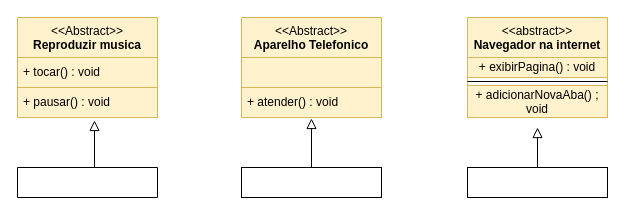
Some shapes in this 625 by 215 pixel diagram are drawn without their labels. Each missing label, with the centre of its shape:
"+ ligar() : void" goes at [311,72].
"atualizarPagina" goes at [537,182].
"iniciarCorreioVoz" goes at [311,182].
"SelecionarMusica" goes at [87,182].
